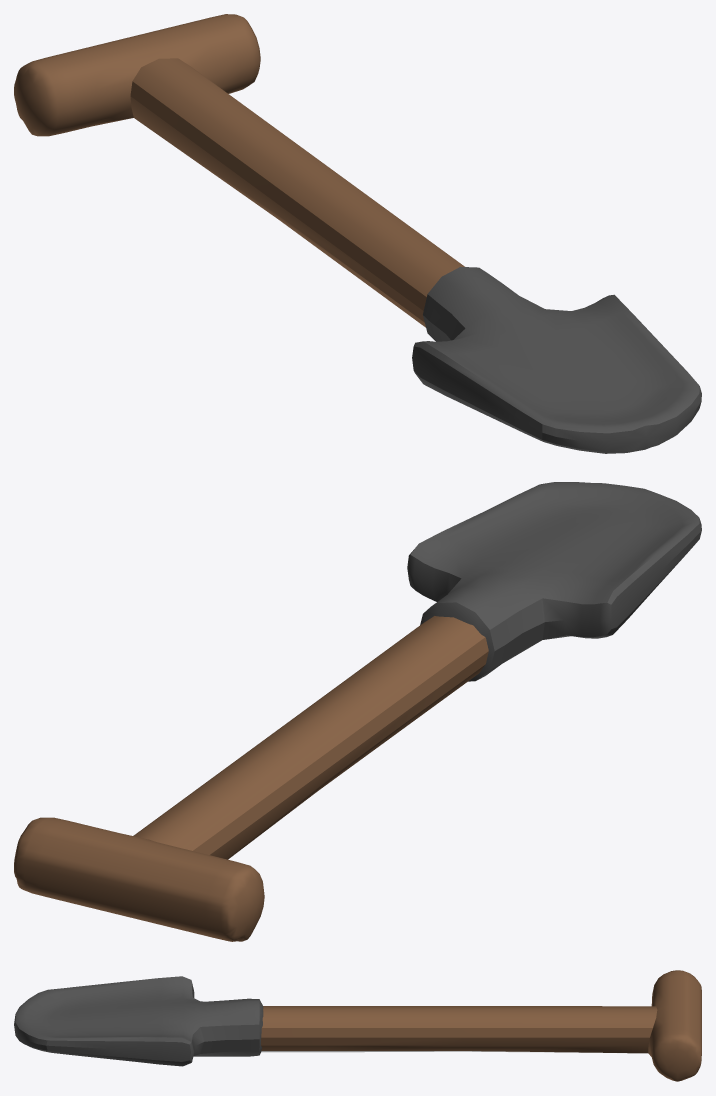
The model's file is Shovel.fbx.
3 renders of one model, top to bottom at view 1: azimuth 30°, elevation 25°; view 2: azimuth 150°, elevation 25°; view 3: azimuth 270°, elevation 25°, orthographic. The views are drawn at different scales.
Visible parts, largest first — view 1: Cylinder.002; view 2: Cylinder.002; view 3: Cylinder.002.
Boxes of the visible parts, x1,y1,x2,y2 form: Cylinder.002: (14,14,701,453); Cylinder.002: (14,482,701,941); Cylinder.002: (14,970,701,1081).
Size of the model in its own units: 61.6 by 20.75 by 245.
